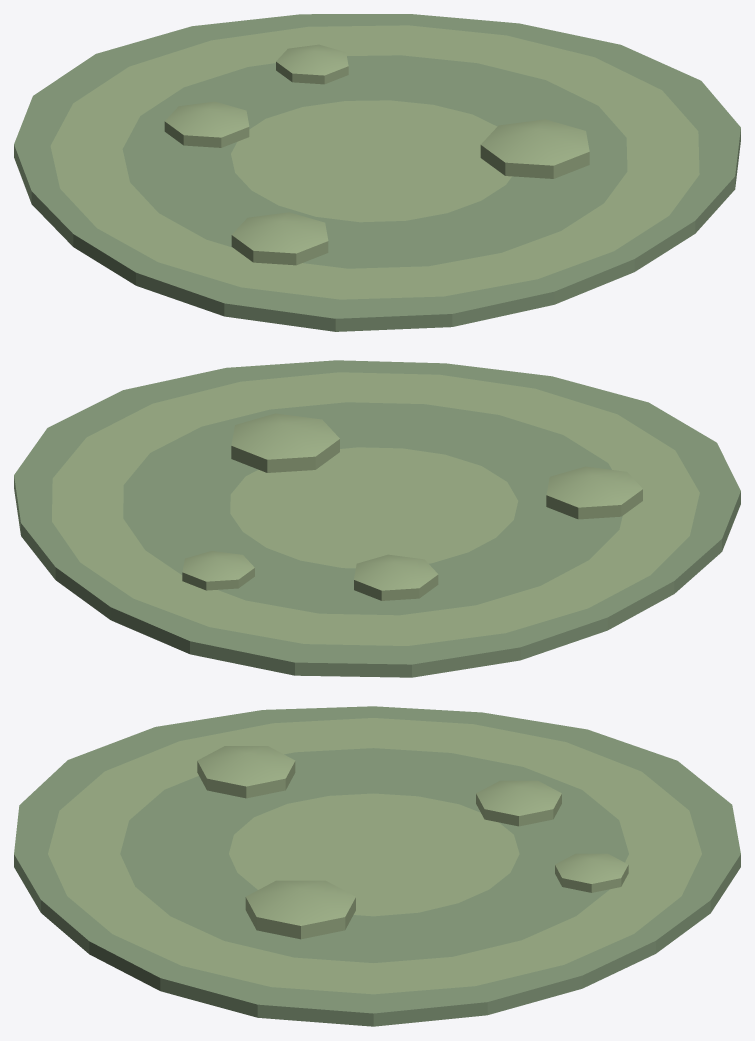
Rendered from moss_disc.gltf.
The picture shows the model from 3 angles, top to bottom: view 1: azimuth 30°, elevation 25°; view 2: azimuth 150°, elevation 25°; view 3: azimuth 270°, elevation 25°; orthographic projection.
Visible parts, largest first — view 1: moss_disc; view 2: moss_disc; view 3: moss_disc.
Part boxes in pixels (<box>): moss_disc: <box>14,14,740,331</box>; moss_disc: <box>14,360,740,677</box>; moss_disc: <box>14,706,740,1026</box>.
Size of the model in its own units: 2 by 0.162 by 2.
